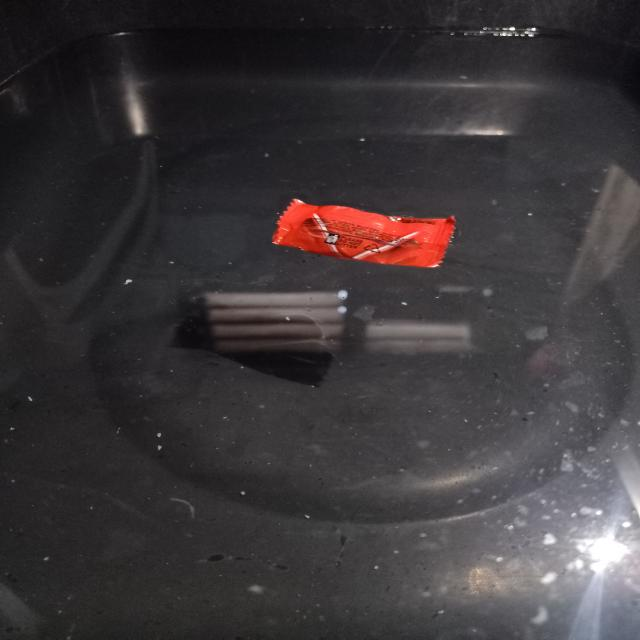Plastic Wrapper: (273, 199, 455, 267)
